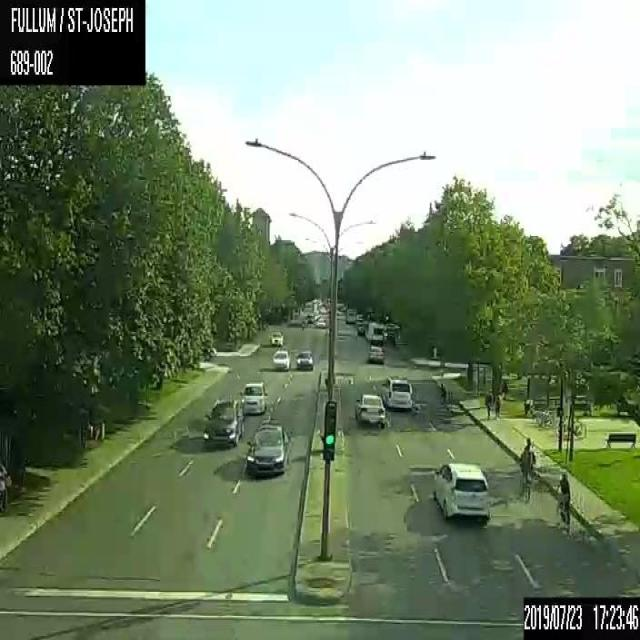cyclist: (518, 436, 538, 503), (554, 472, 572, 535)
pedestrian: (0, 457, 8, 511), (484, 389, 494, 419), (438, 382, 446, 407), (494, 391, 501, 418)
vehicle: (430, 459, 492, 528), (244, 423, 292, 476), (201, 391, 244, 449), (380, 375, 412, 411), (354, 392, 384, 428), (240, 379, 266, 415), (365, 321, 386, 344), (270, 348, 290, 369), (367, 344, 385, 363), (295, 350, 312, 370), (268, 330, 283, 346), (345, 308, 356, 324)
